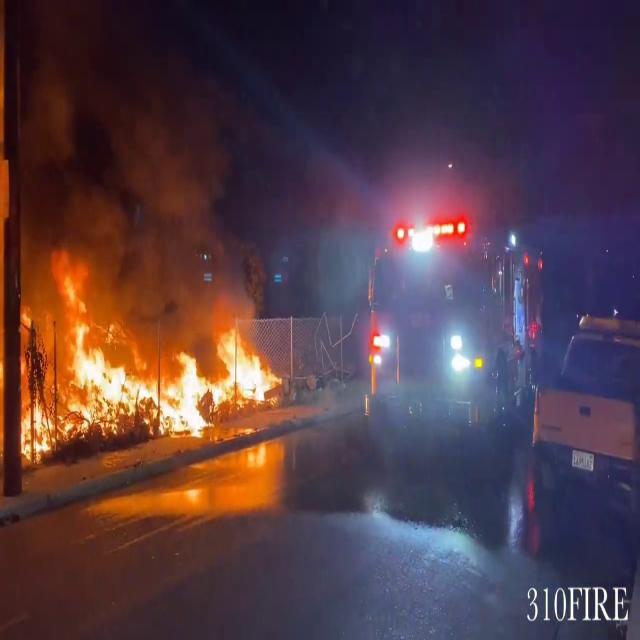Fire: (18, 272, 278, 448)
Smoke: (17, 0, 261, 323)
